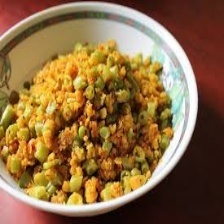sabzi: (0, 33, 178, 210)
